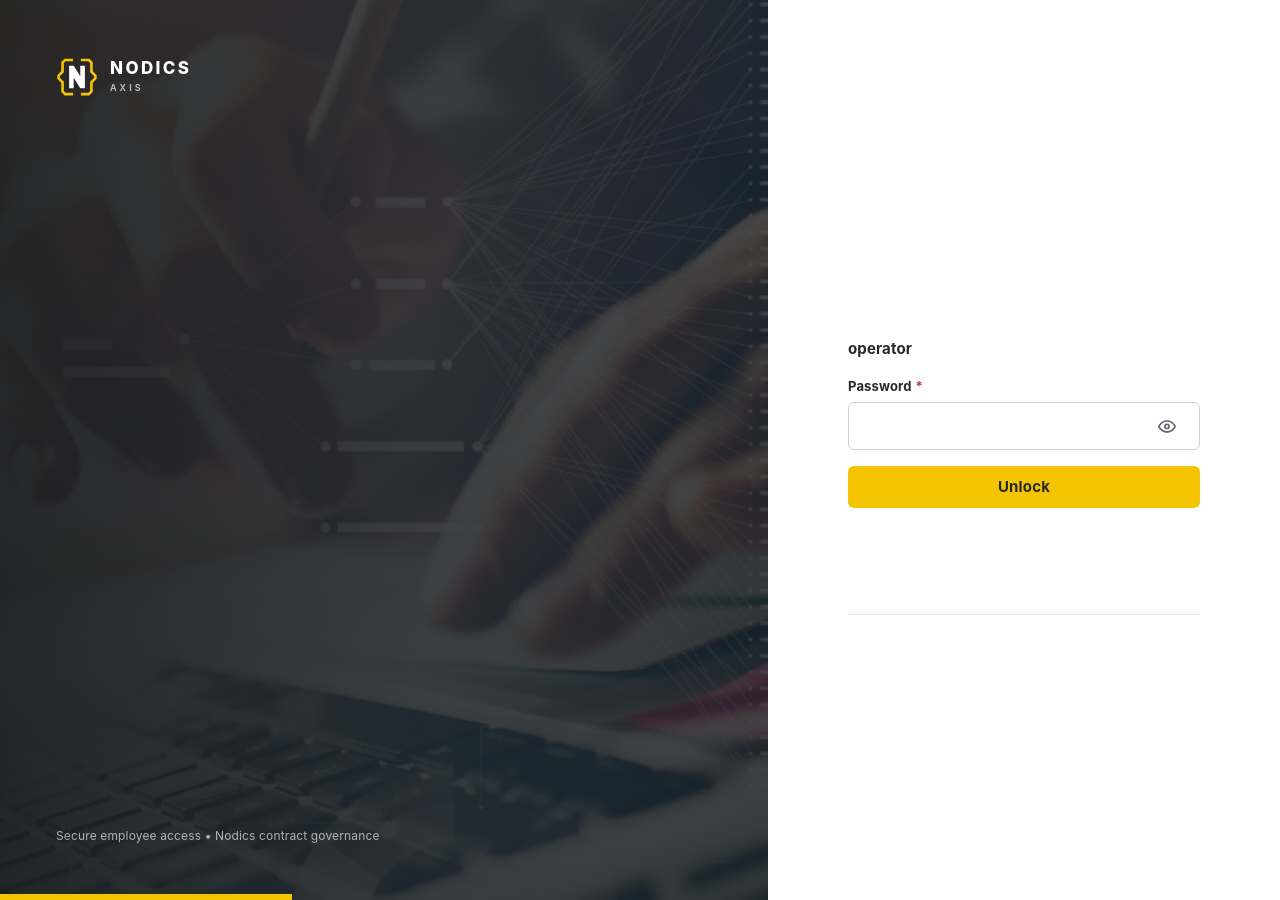
Test case: employee login journey › restores the lock screen after a browser refresh until password verification
Expected: the button "Unlock" is shown, [848,466,1200,508]
Expected: the text "Authenticated employee workspace" is not shown
Type "secret" into the password field labelled "Password *". click: (992, 426)
box: [848,404,1137,448]
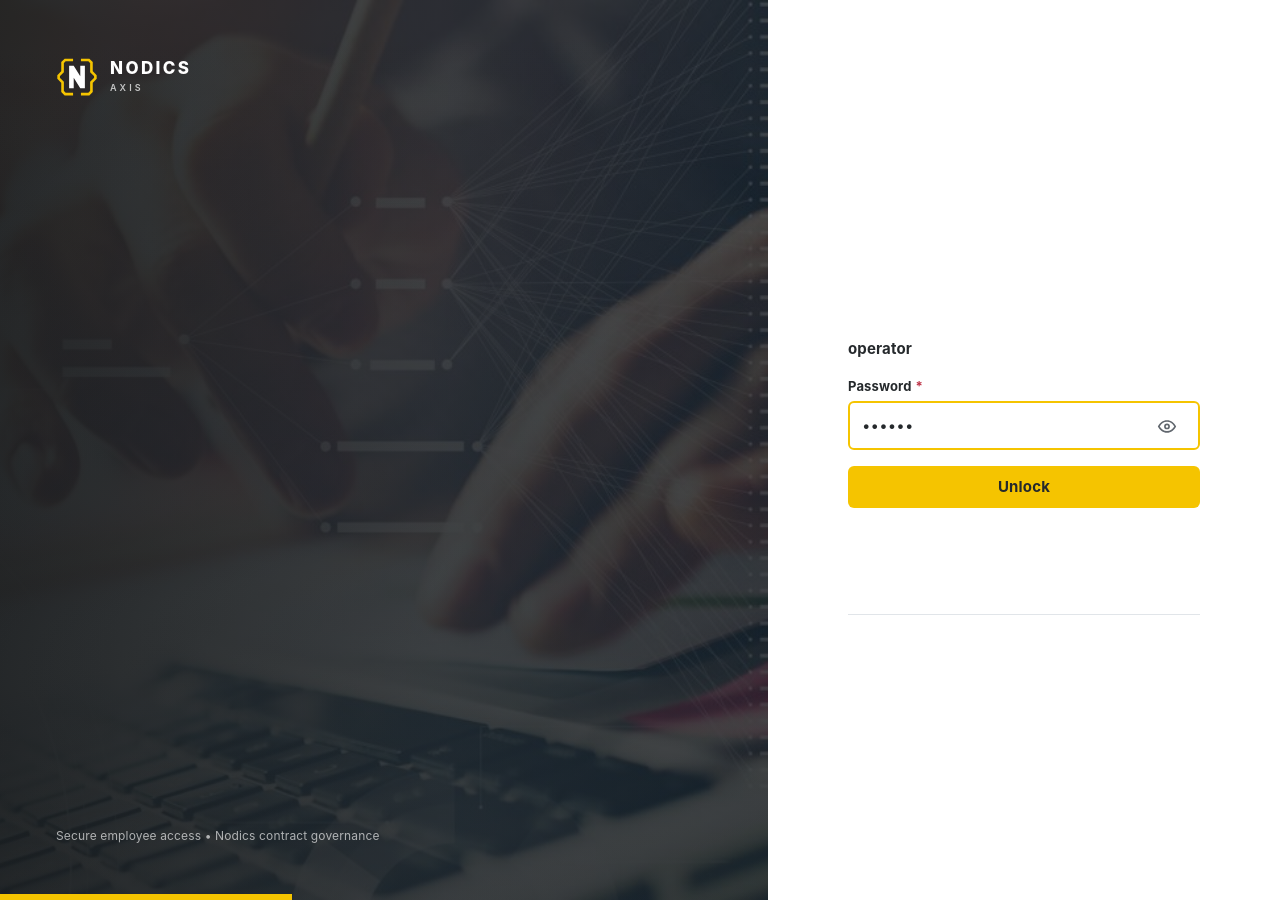
Click the button "Unlock". click: (1024, 487)
box: [848,466,1200,508]
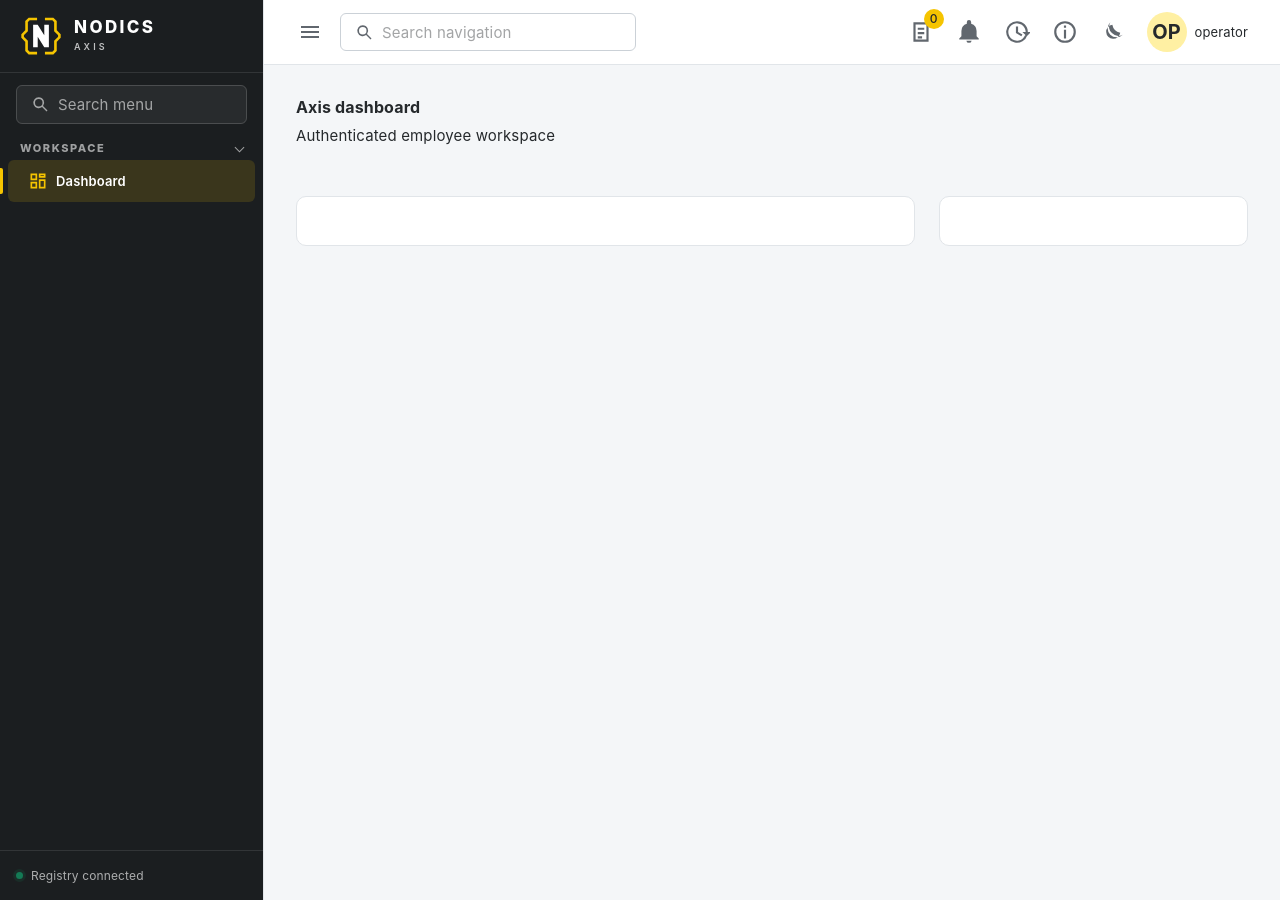
Expected: the text "Authenticated employee workspace" is shown, [296,126,555,145]
